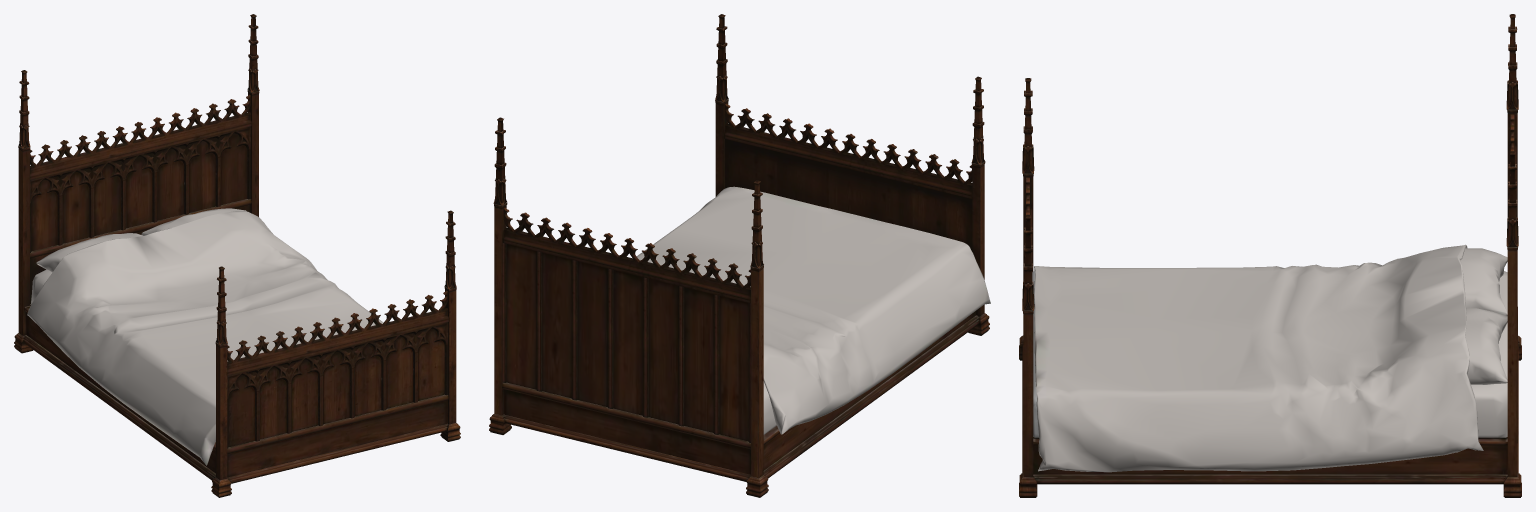
3 renders of one model, left to right at view 1: azimuth 30°, elevation 25°; view 2: azimuth 150°, elevation 25°; view 3: azimuth 270°, elevation 25°, orthographic. The views are drawn at different scales.
Visible parts, largest first — view 1: GothicBed_01; view 2: GothicBed_01; view 3: GothicBed_01.
Part boxes in pixels (left/top/right/bottom): GothicBed_01: left=14, top=14, right=460, bottom=497; GothicBed_01: left=489, top=14, right=990, bottom=497; GothicBed_01: left=1019, top=14, right=1521, bottom=497.
Bounding box in the file's own units: 1.49 × 1.53 × 2.04.
1 material, 1 textured.
